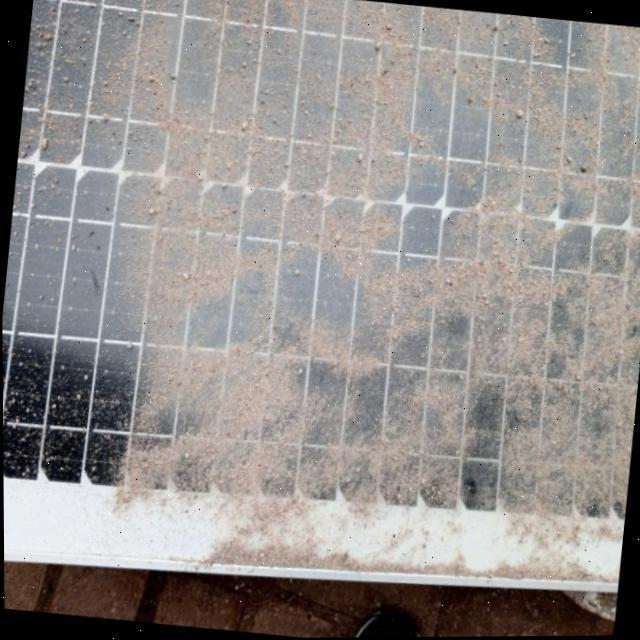Anomaly Solar Panel: (0, 0, 640, 604)
Surface Contaminant: (2, 0, 640, 558)
